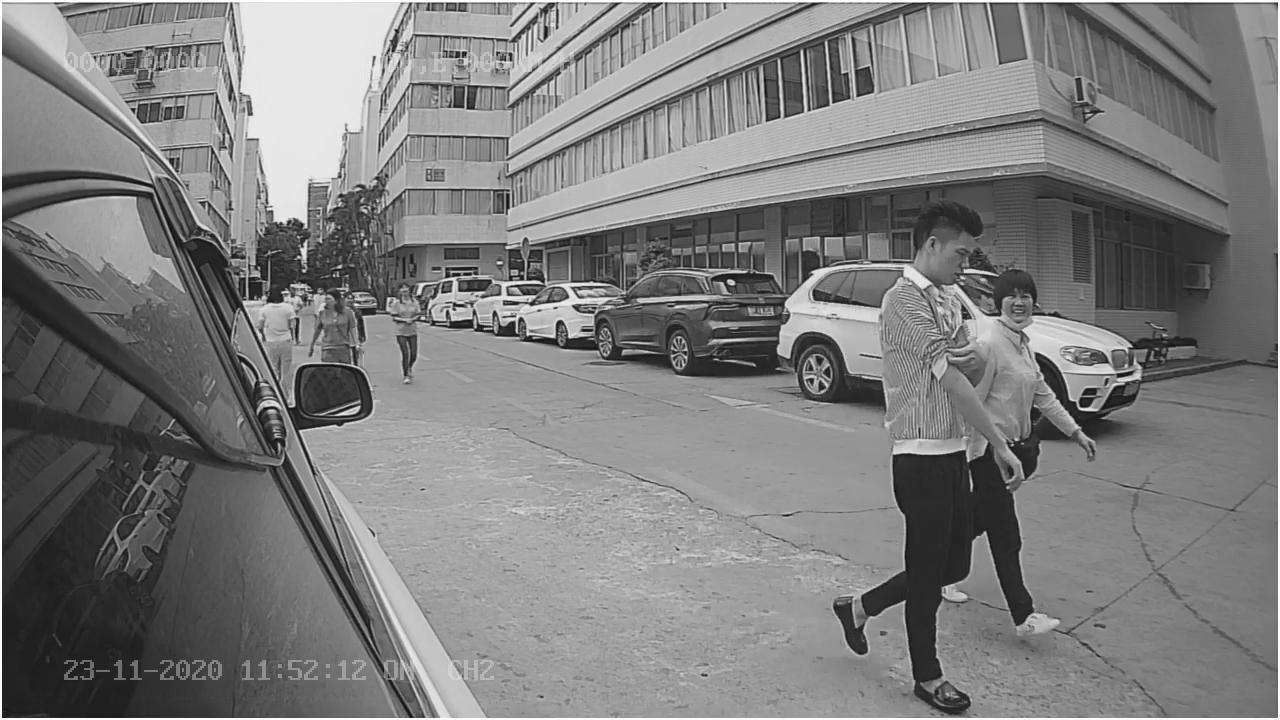person: (831, 195, 1024, 718)
